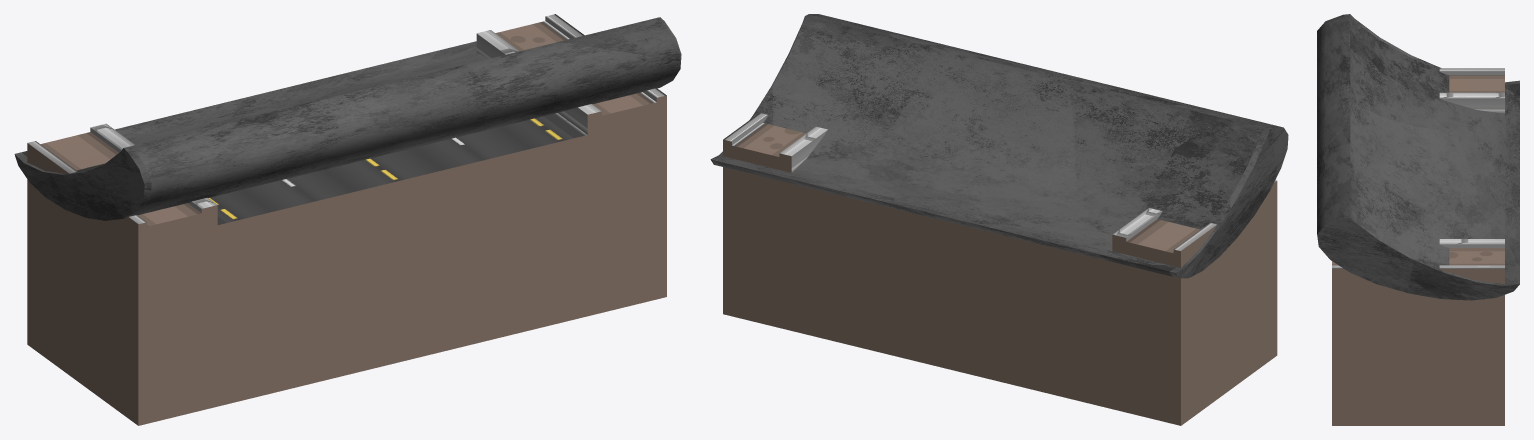
File: jump.fbx
3 views of the same model, side by side, from view 1: azimuth 30°, elevation 25°; view 2: azimuth 150°, elevation 25°; view 3: azimuth 270°, elevation 25° (orthographic). The views are drawn at different scales.
Parts seen in each view (by area): view 1: polySurface3; view 2: polySurface3; view 3: polySurface3.
Part boxes in pixels (<box>): polySurface3: <box>14,14,681,425</box>; polySurface3: <box>710,14,1288,425</box>; polySurface3: <box>1317,14,1519,425</box>.
Bounding box in the file's own units: 8.12 × 3.91 × 3.42.
3 materials, 2 textured.
